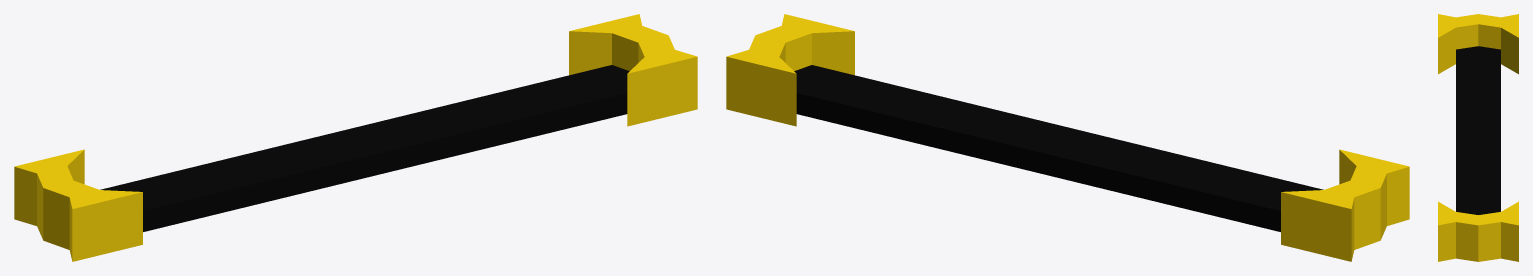
The model's file is Afinador 1.fbx.
The picture shows the model from 3 angles, left to right: view 1: azimuth 30°, elevation 25°; view 2: azimuth 150°, elevation 25°; view 3: azimuth 270°, elevation 25°; orthographic projection. The views are drawn at different scales.
Parts seen in each view (by area): view 1: Afinador; view 2: Afinador; view 3: Afinador.
Part boxes in pixels (<box>): Afinador: <box>14,14,697,261</box>; Afinador: <box>726,14,1409,261</box>; Afinador: <box>1438,14,1518,261</box>.
Bounding box in the file's own units: 31 × 2.5 × 5.
